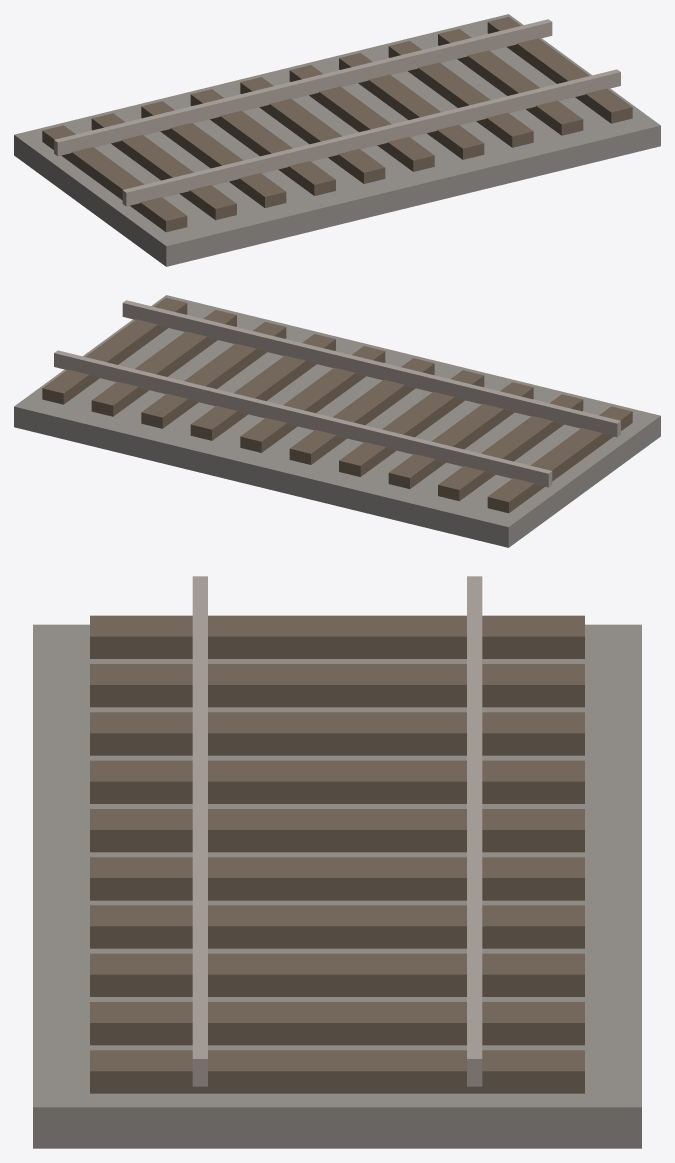
The model's file is RailTrack.glb.
3 renders of one model, top to bottom at view 1: azimuth 30°, elevation 25°; view 2: azimuth 150°, elevation 25°; view 3: azimuth 270°, elevation 25°, orthographic. The views are drawn at different scales.
Parts seen in each view (by area): view 1: Ballast, Rail, Rail.001, Sleeper, Sleeper.009, Sleeper.004, Sleeper.005, Sleeper.003, Sleeper.008, Sleeper.002, Sleeper.006, Sleeper.001 (+1 smaller); view 2: Ballast, Rail.001, Rail, Sleeper, Sleeper.009, Sleeper.004, Sleeper.005, Sleeper.003, Sleeper.008, Sleeper.002, Sleeper.006, Sleeper.001 (+1 smaller); view 3: Ballast, Sleeper.009, Sleeper, Sleeper.001, Sleeper.002, Sleeper.003, Sleeper.004, Sleeper.005, Sleeper.006, Sleeper.007, Sleeper.008, Rail (+1 smaller).
Boxes of the visible parts, x1,y1,x2,y2 form: Ballast: (14,14,660,266); Rail: (122,69,620,206); Rail.001: (54,19,552,156); Sleeper: (42,125,187,232); Sleeper.009: (487,16,632,123); Sleeper.004: (240,77,385,183); Sleeper.005: (289,65,434,171); Sleeper.003: (190,89,335,195); Sleeper.008: (438,29,583,135); Sleeper.002: (141,101,286,207); Sleeper.006: (339,53,484,159); Sleeper.001: (91,113,236,220); Ballast: (14,295,660,547); Rail.001: (54,350,552,487); Rail: (122,300,620,437); Sleeper: (487,406,632,513); Sleeper.009: (42,297,187,404); Sleeper.004: (289,358,434,464); Sleeper.005: (240,346,385,452); Sleeper.003: (339,370,484,476); Sleeper.008: (91,310,236,416); Sleeper.002: (388,382,533,488); Sleeper.006: (190,334,335,440); Sleeper.001: (438,394,583,501); Ballast: (33,624,641,1148); Sleeper.009: (90,1050,584,1093); Sleeper: (90,615,584,658); Sleeper.001: (90,664,584,707); Sleeper.002: (90,712,584,755); Sleeper.003: (90,760,584,803); Sleeper.004: (90,809,584,852); Sleeper.005: (90,857,584,900); Sleeper.006: (90,905,584,948); Sleeper.007: (90,953,584,996); Sleeper.008: (90,1002,584,1045); Rail: (192,576,207,1086).
Bounding box in the file's own units: 6 × 0.52 × 3.2.
